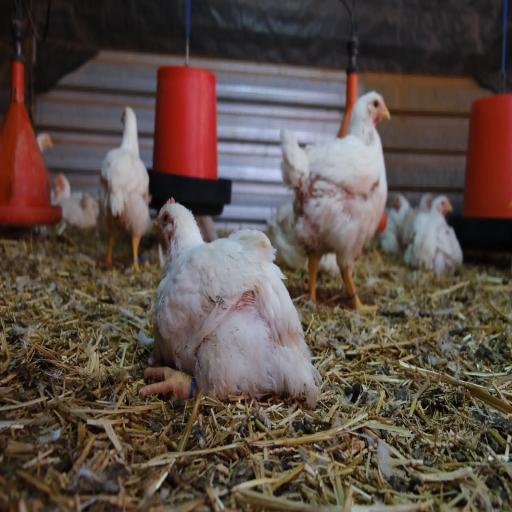healthy: (148, 190, 189, 248), (362, 76, 392, 135)
